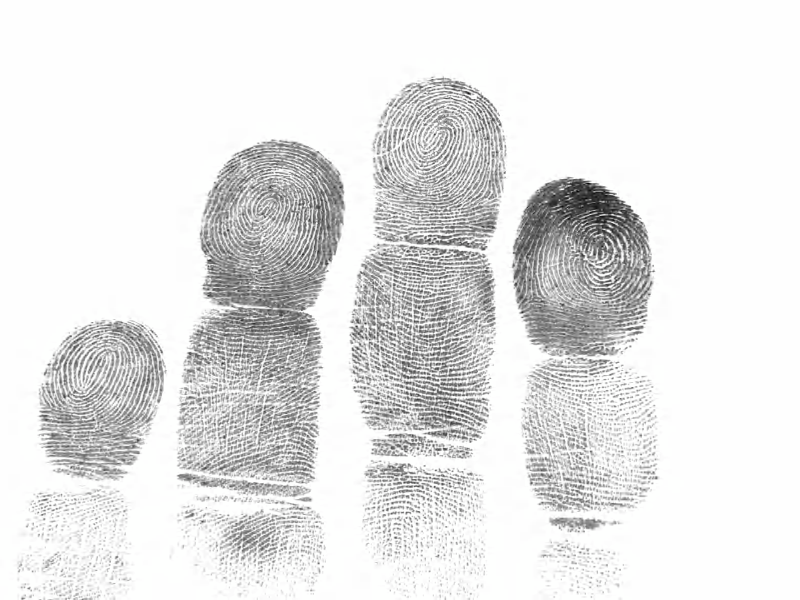distal: (507, 173, 668, 358), (192, 133, 348, 316), (353, 73, 515, 248), (21, 315, 167, 487)
proximal: (345, 243, 507, 454), (170, 309, 340, 495), (508, 355, 687, 523), (8, 487, 136, 600)
